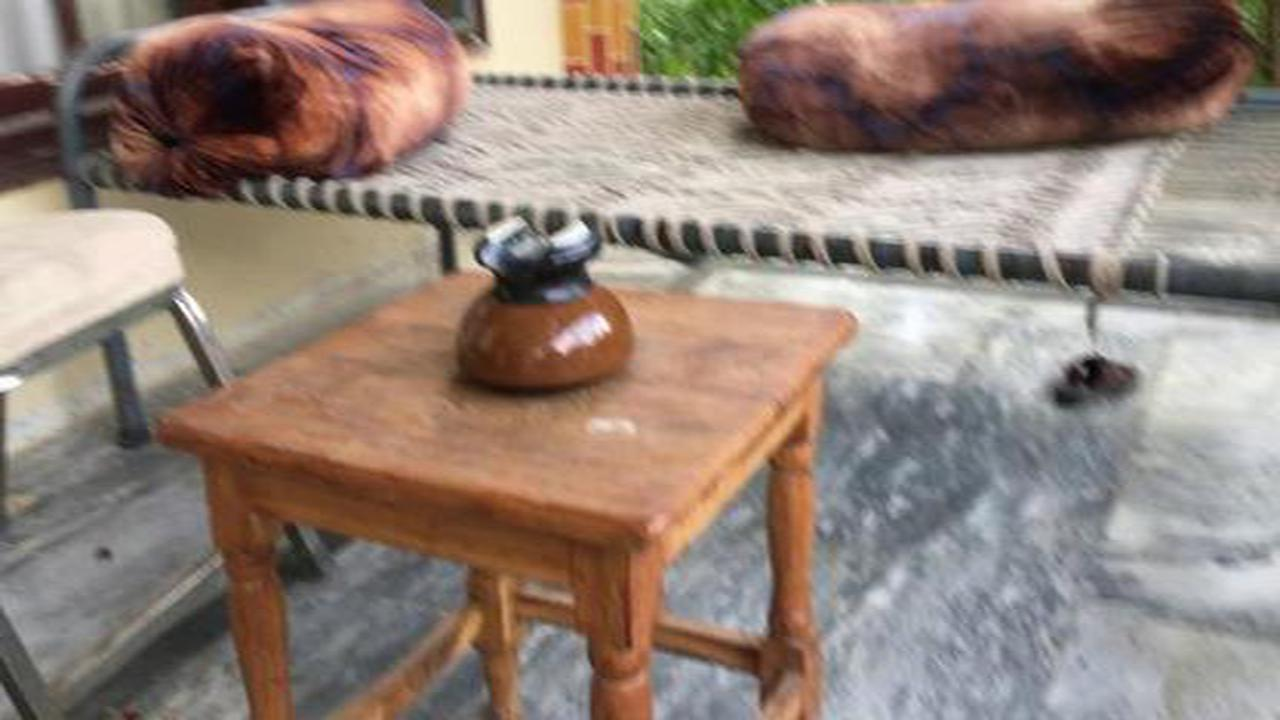insulator_pin: (437, 196, 653, 400)
